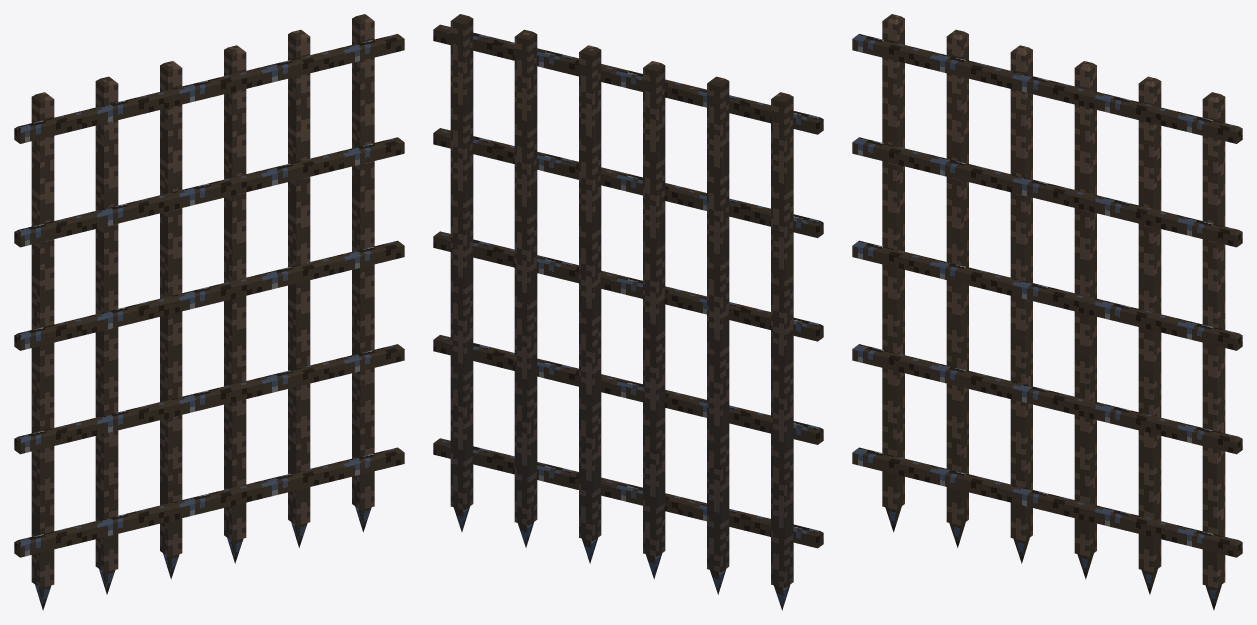
File: cst.portcullis.glb
3 renders of one model, left to right at view 1: azimuth 30°, elevation 25°; view 2: azimuth 150°, elevation 25°; view 3: azimuth 330°, elevation 25°, orthographic.
Parts seen in each view (by area): view 1: kit_grid, kit_iron; view 2: kit_grid, kit_iron; view 3: kit_grid, kit_iron.
Part boxes in pixels (left/top/right/bottom): kit_grid: left=31, top=14, right=374, bottom=587; kit_iron: left=14, top=34, right=404, bottom=610; kit_grid: left=450, top=14, right=793, bottom=587; kit_iron: left=433, top=24, right=823, bottom=610; kit_grid: left=882, top=14, right=1225, bottom=587; kit_iron: left=852, top=34, right=1242, bottom=610.
Bounding box in the file's own units: 3.5 × 4.49 × 0.21.
2 materials, 2 textured.
